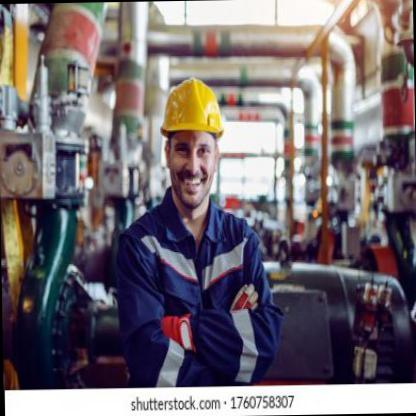Gloves: (158, 309, 197, 350), (227, 281, 258, 312)
